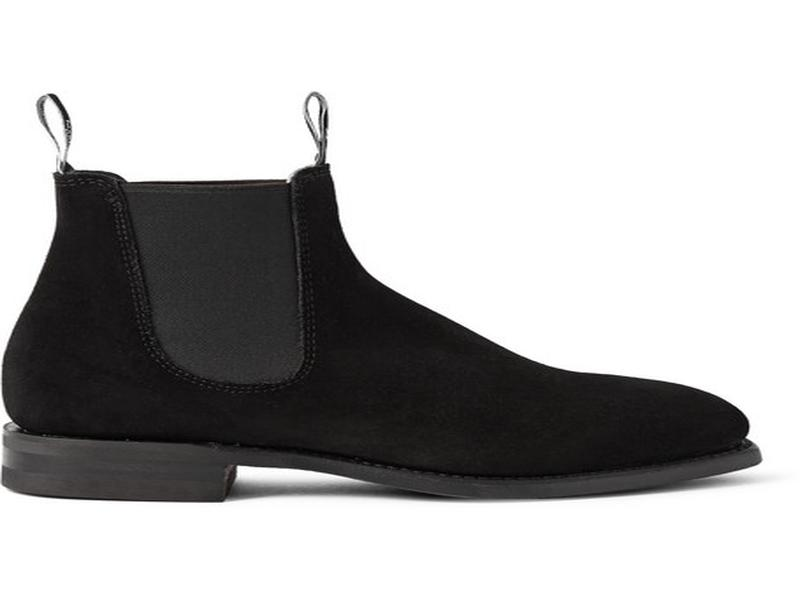shoes_men_chelsea_chelseaboots_suede_none_none_black_none: (4, 93, 789, 528)
